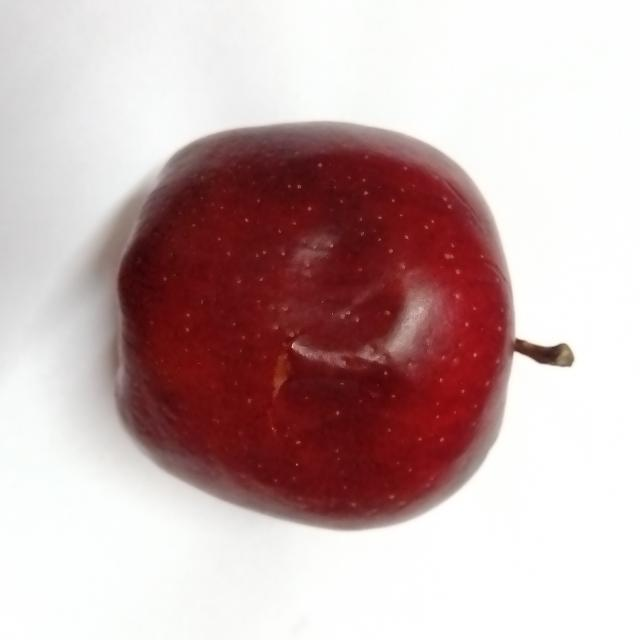apple: (118, 123, 570, 527)
